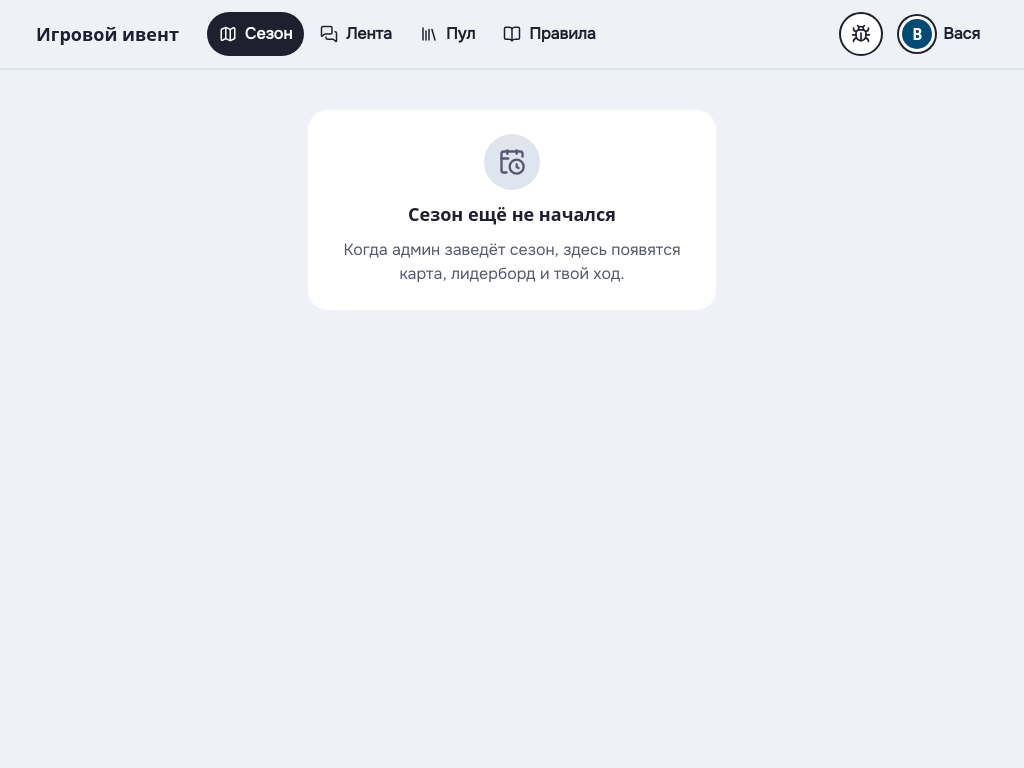
it: the shell › changes my own password from the menu and keeps me in the game
Expected: the element with test id "no-season" is shown, [292,70,732,350]
Click the button with test id "user-menu": (944,34) [895,12,992,56]
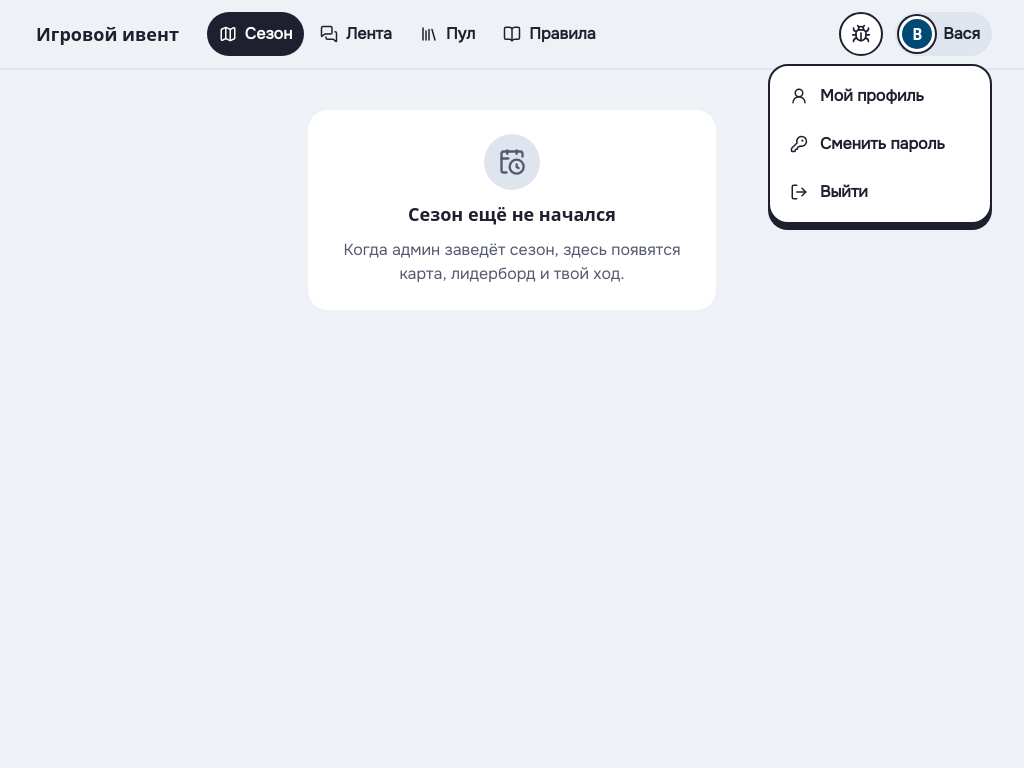
Click the menu item with test id "change-password": (867,144) [790,133,945,154]
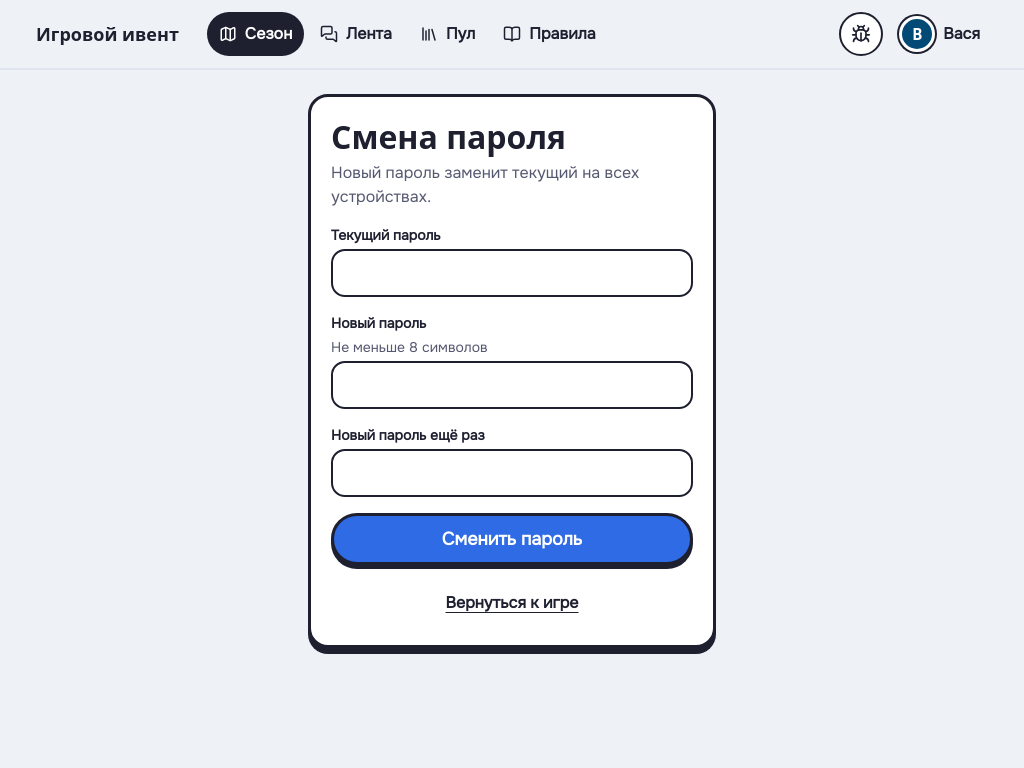
Result: the password field labelled "Текущий пароль" is shown
In the password field with test id "password-current": (512,273) [331,249,693,297], type "old-password"
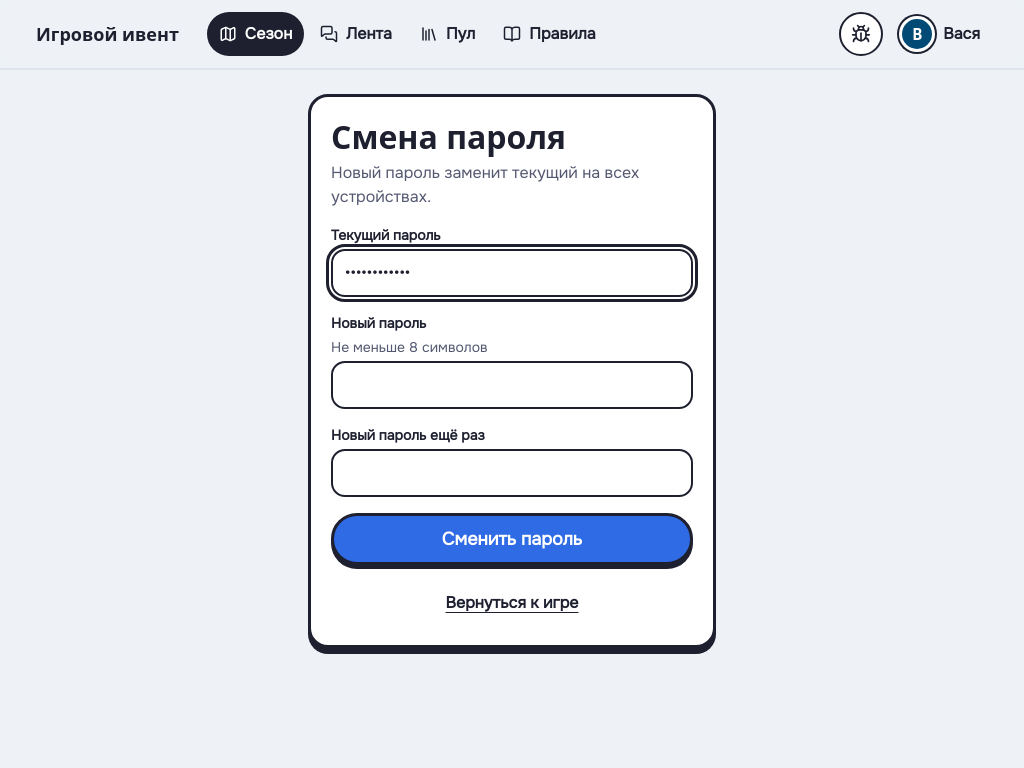
In the password field with test id "password-new": (512,385) [331,361,693,409], type "new-password"
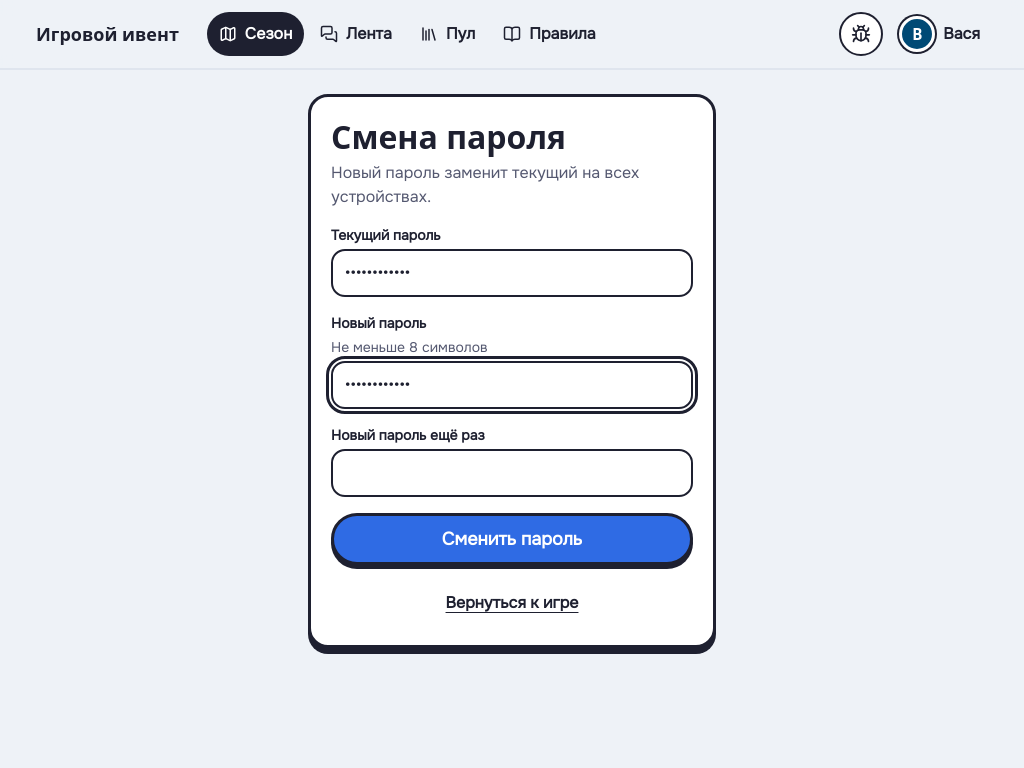
In the password field with test id "password-repeat": (512,473) [331,449,693,497], type "new-password"
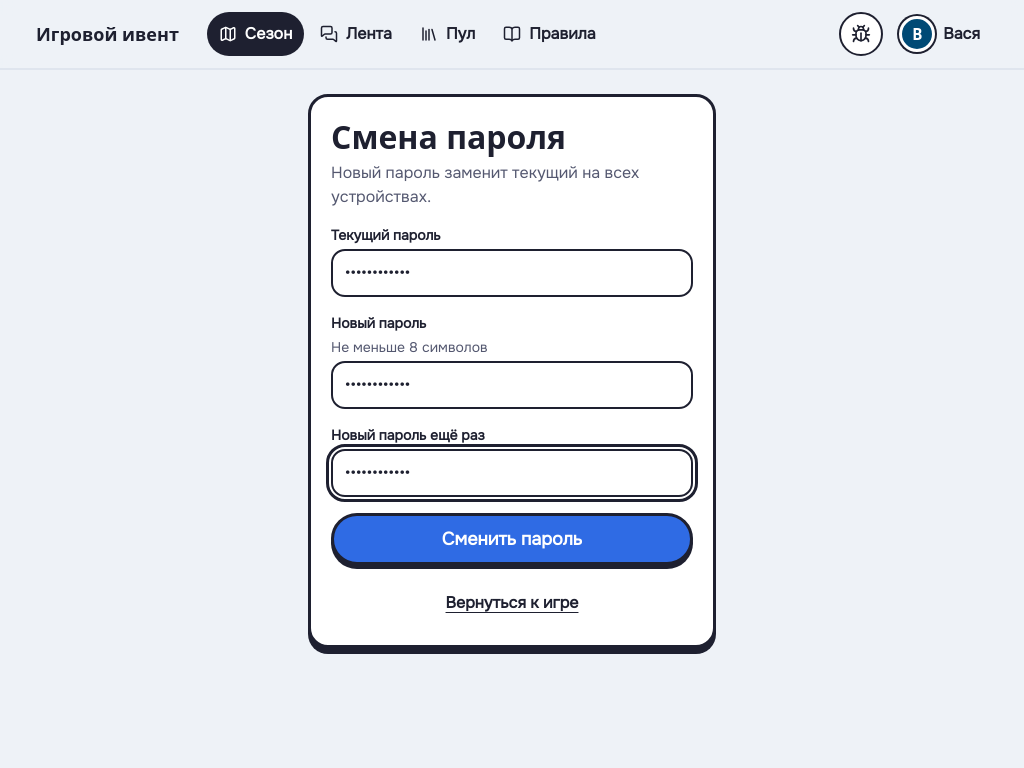
Click the button with test id "password-submit": (512,539) [331,513,693,565]
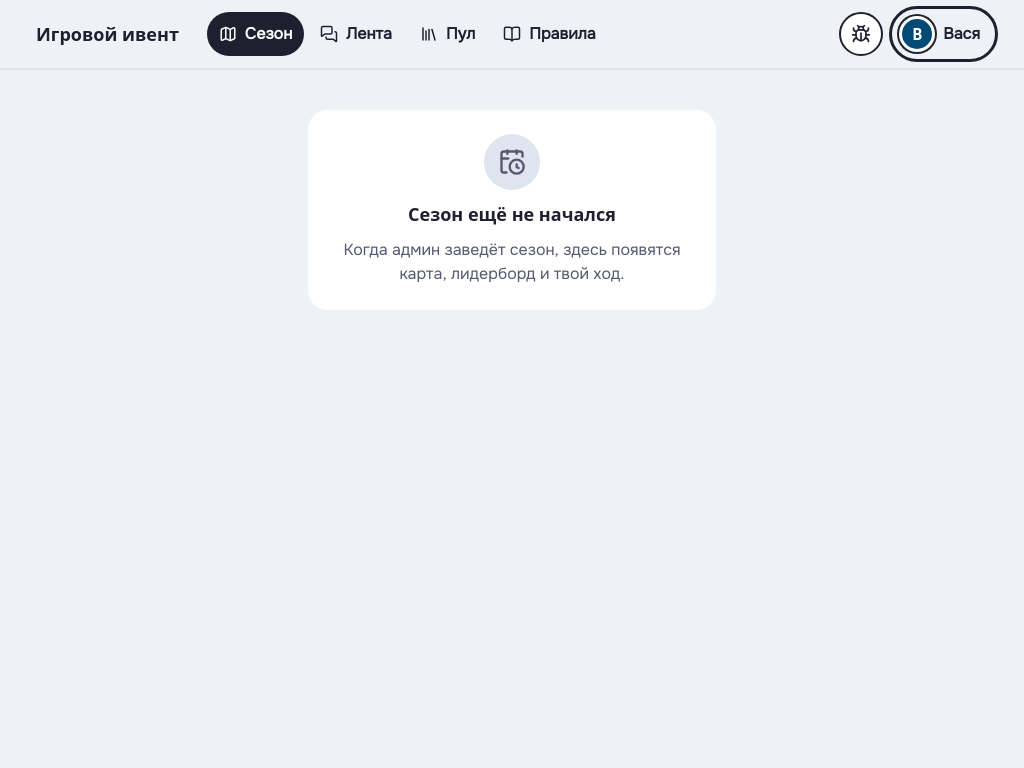
Result: the element with test id "no-season" is shown at [292,70,732,350]
